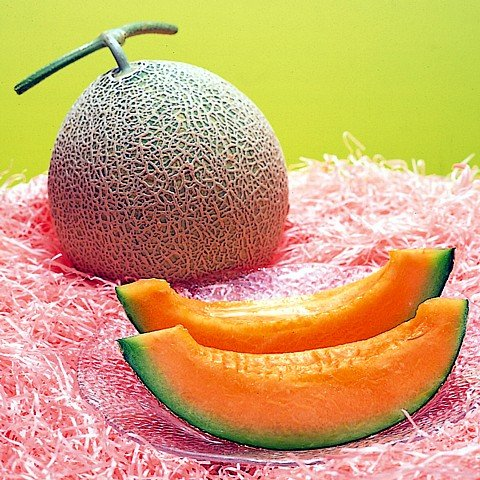Melon: (127, 297, 468, 471), (103, 270, 442, 338)
